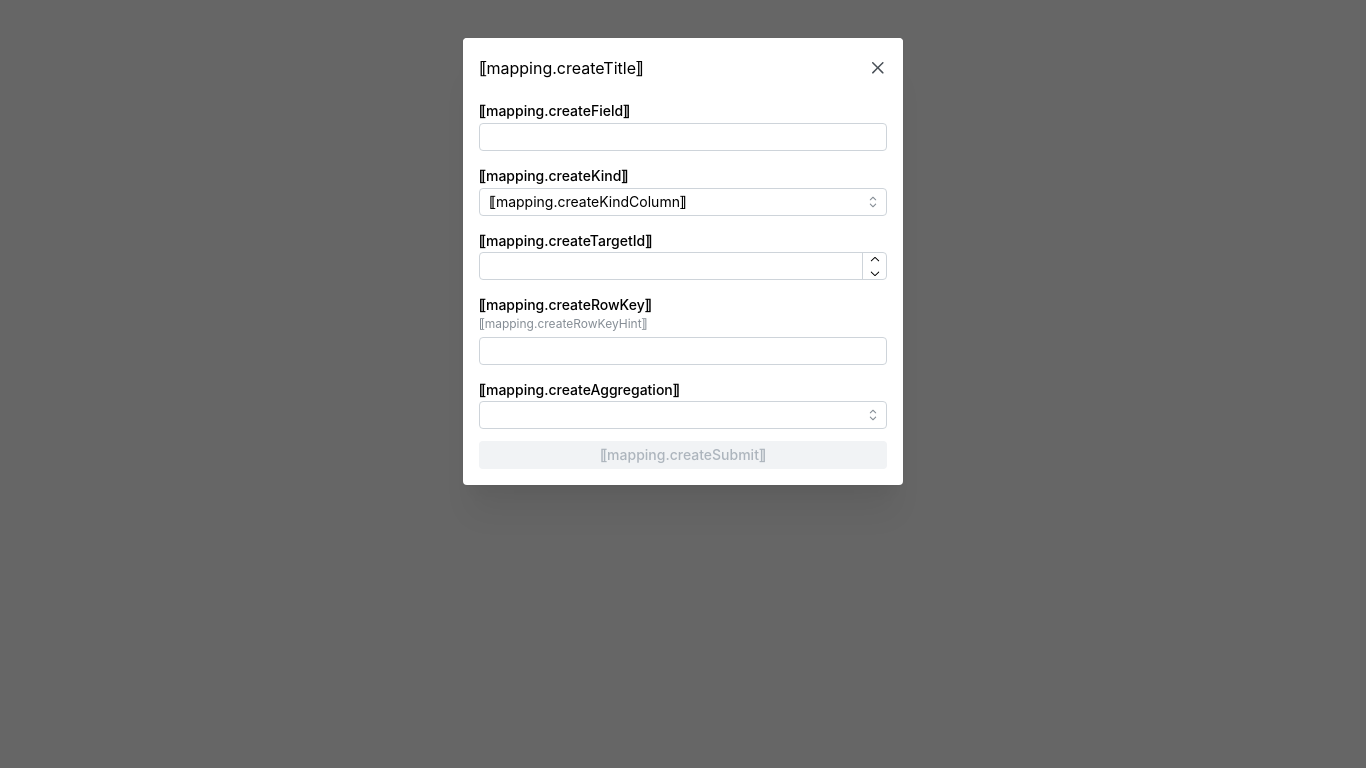
Test: CreateMappingModal: зміна виду цілі скидає ID (§10.4) › після перемикання виду кнопка заблокована, доки ID не введено заново
This screenshot has width=1366, height=768.
Type "Flare_01_CO" into the field labelled "⟦mapping.createField⟧".
click(683, 137); type("Flare_01_CO")  # box x1=479 y1=123 x2=887 y2=151
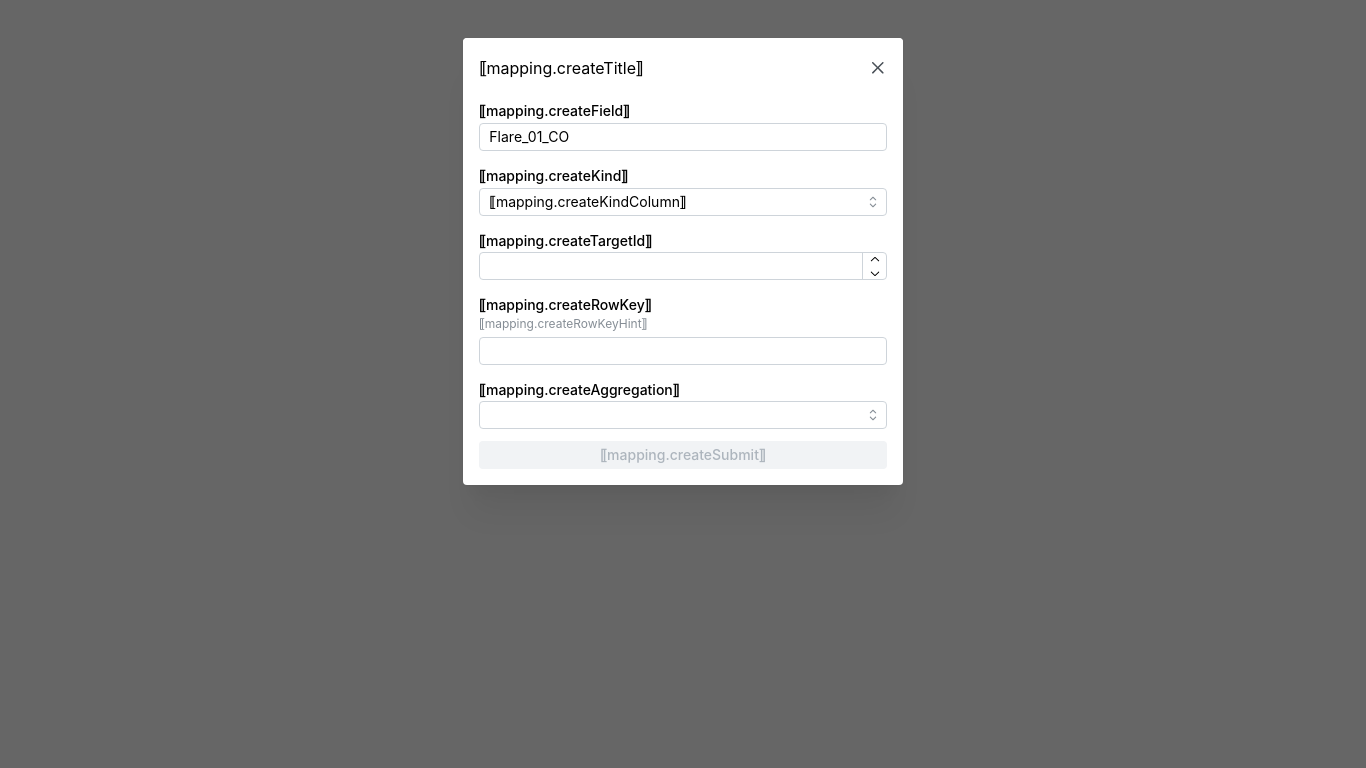
Type "42" into the field labelled "⟦mapping.createTargetId⟧".
click(683, 267); type("42")  # box x1=479 y1=253 x2=887 y2=281
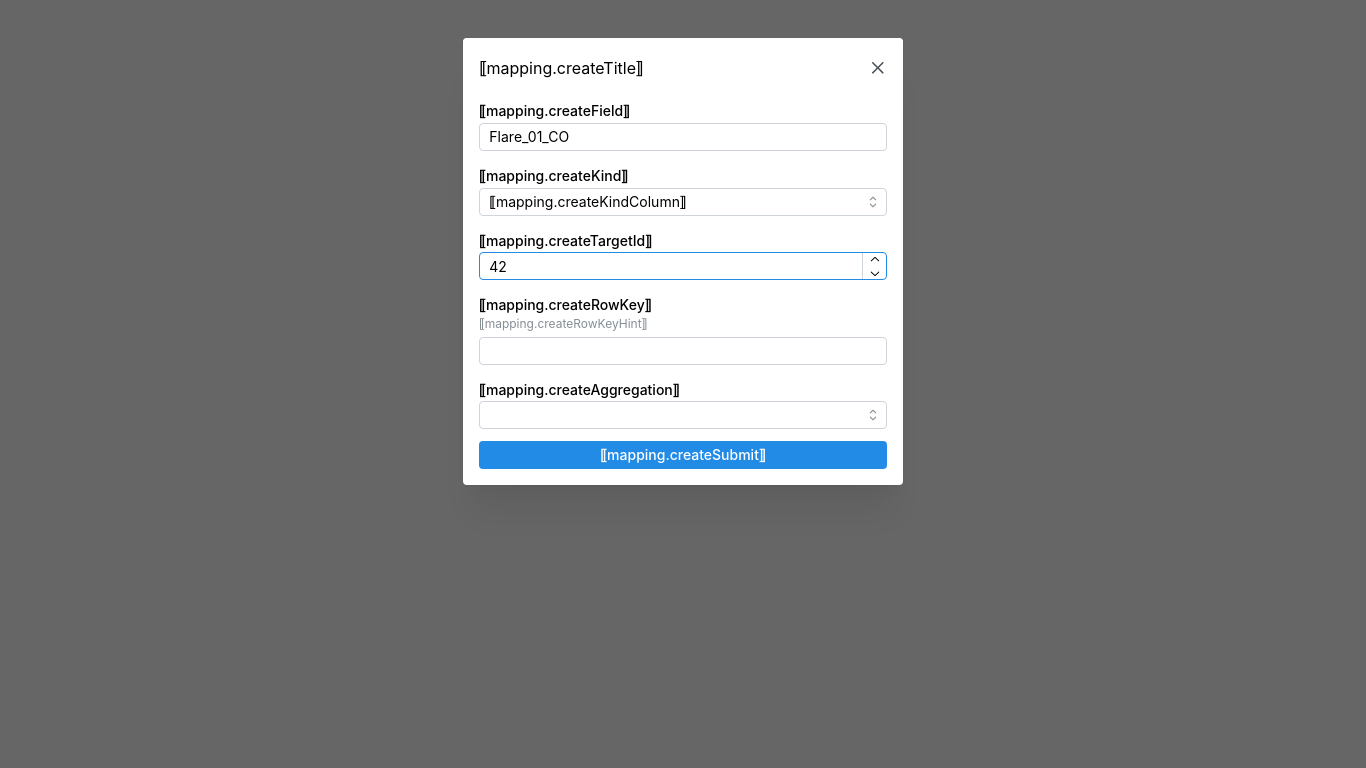
Now the button "⟦mapping.createSubmit⟧" is enabled, box x1=479 y1=442 x2=887 y2=470
Click the field labelled "⟦mapping.createKind⟧".
click(683, 202)  # box x1=479 y1=188 x2=887 y2=216
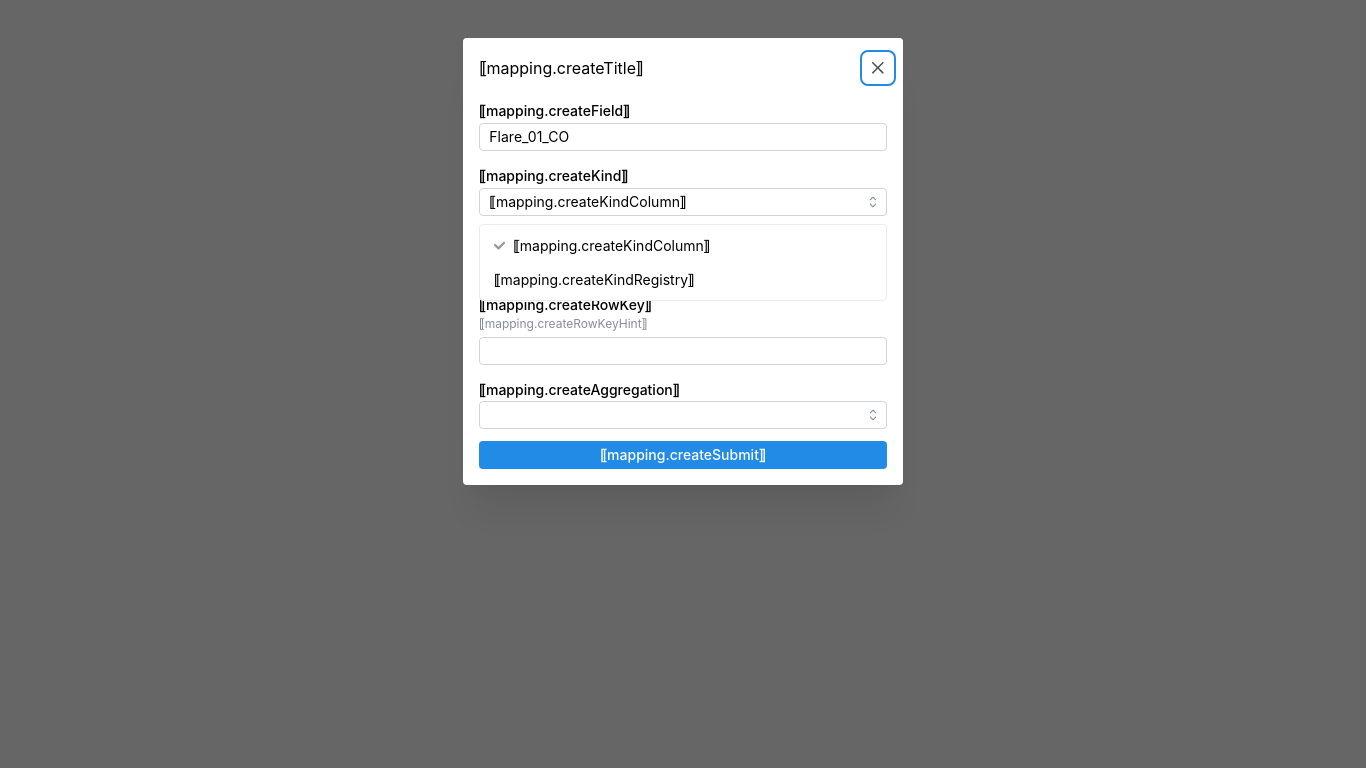
Click the option "⟦mapping.createKindRegistry⟧".
click(594, 279)  # box x1=494 y1=271 x2=695 y2=288
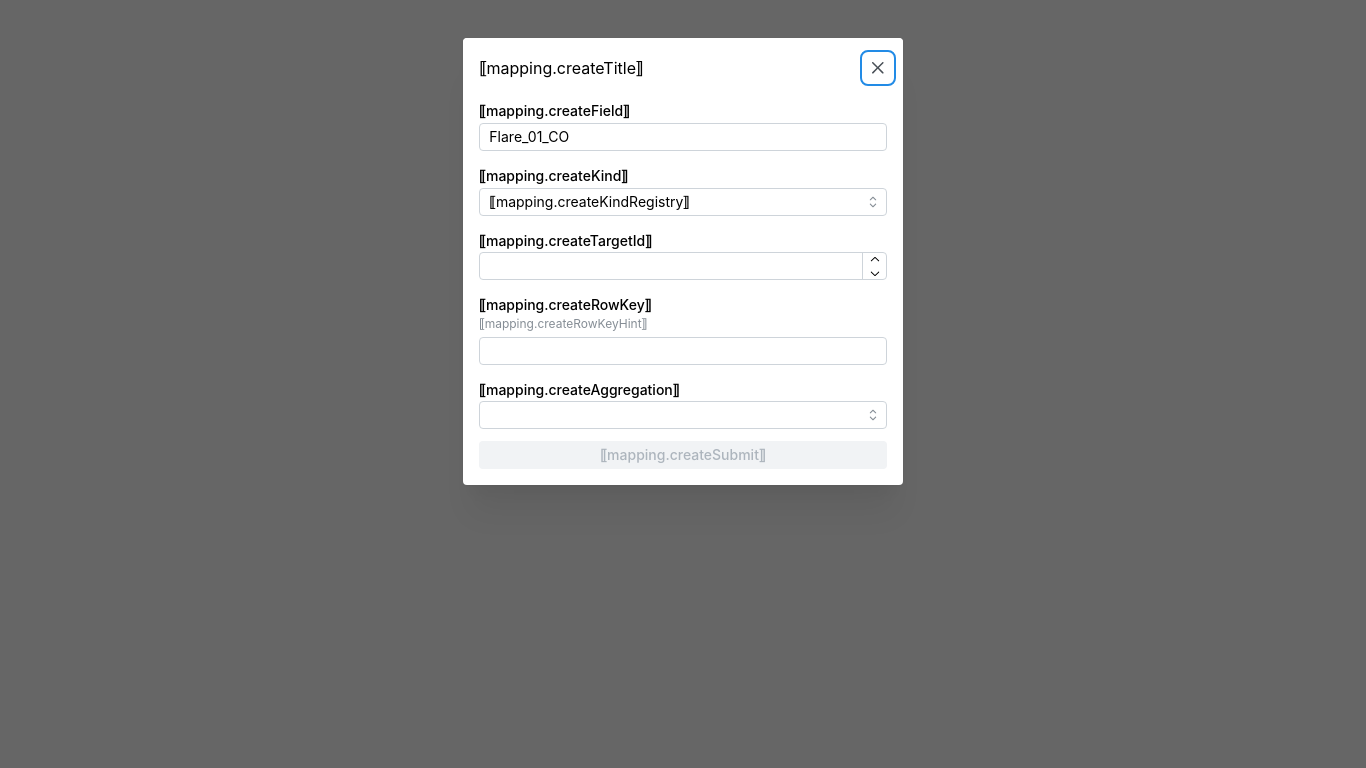
Now the button "⟦mapping.createSubmit⟧" is disabled, box x1=479 y1=442 x2=887 y2=470
